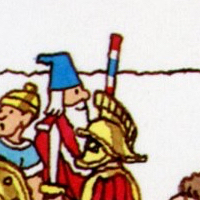wb: (42, 50, 90, 118)
